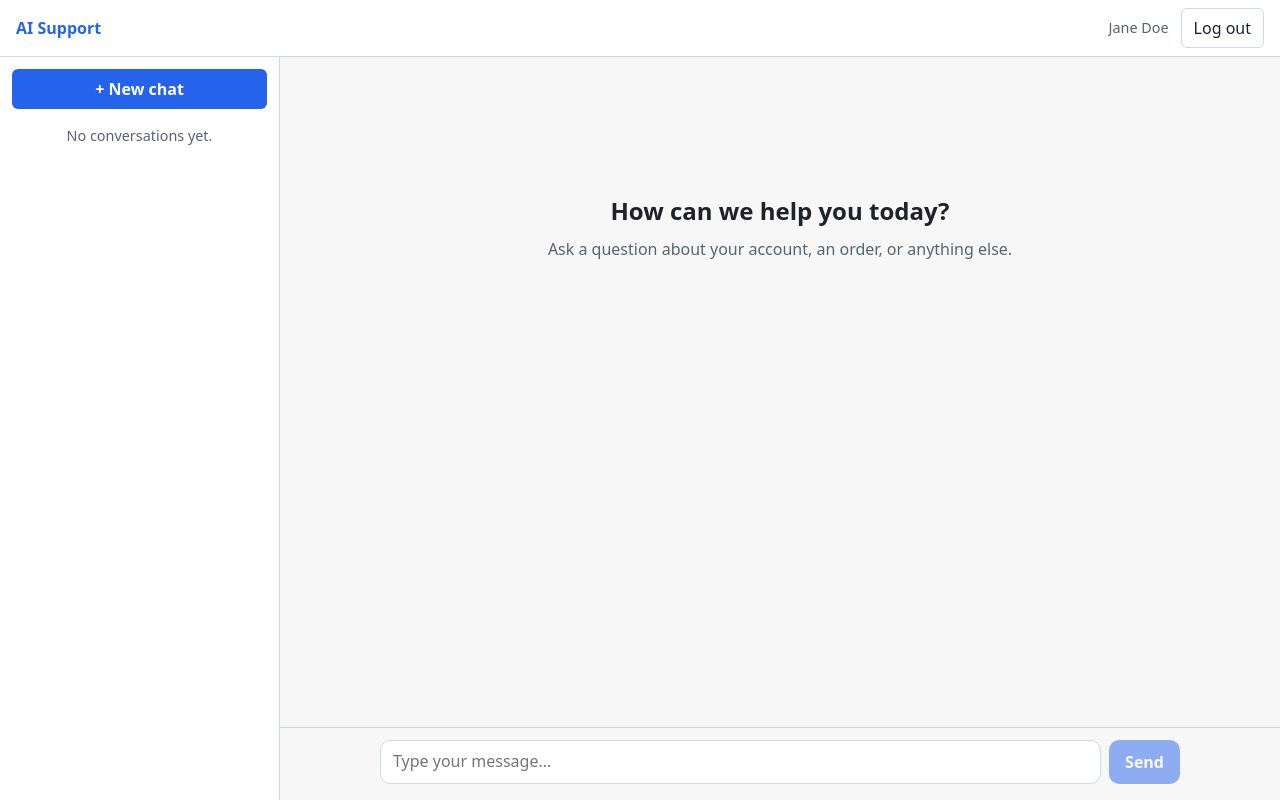
Test case: AI daily quota used up (AI-05) › AI-05: keeps the message as "Not sent." with Dismiss only — no Retry
This screenshot has width=1280, height=800.
Type "Will this work?" into the text box labelled "message" at (741, 762), box [380, 740, 1101, 784]
Then press Enter
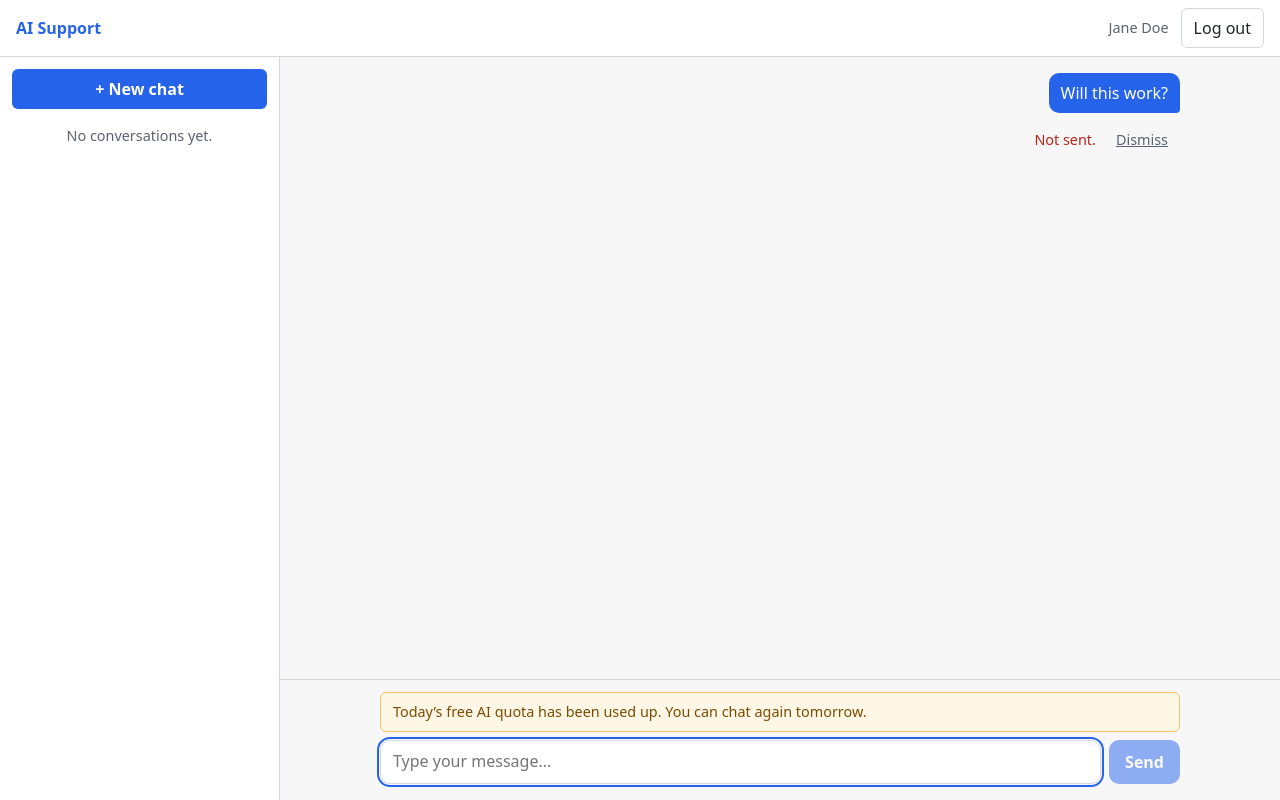
Now the message "Today’s free AI quota has been used up. You can chat again tomorrow." is shown, box [380, 692, 1180, 732]
Now the text "Will this work?" is shown, box [1049, 73, 1180, 113]
Now the text "Not sent." is shown, box [1034, 129, 1096, 151]
Click the button "Dismiss" at (1142, 140), box [1104, 121, 1180, 159]
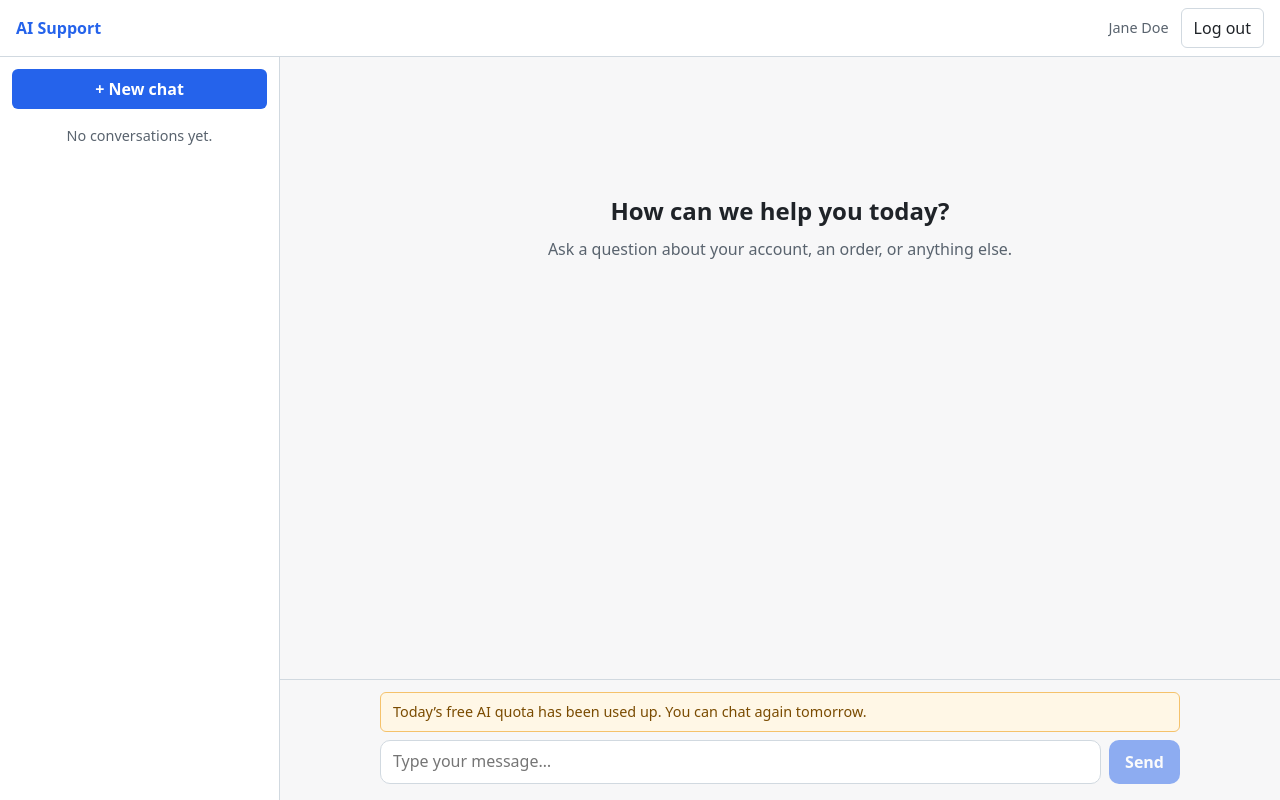
Now the message shows "free AI quota", box [393, 702, 796, 721]
Now the text "Will this work?" is gone
